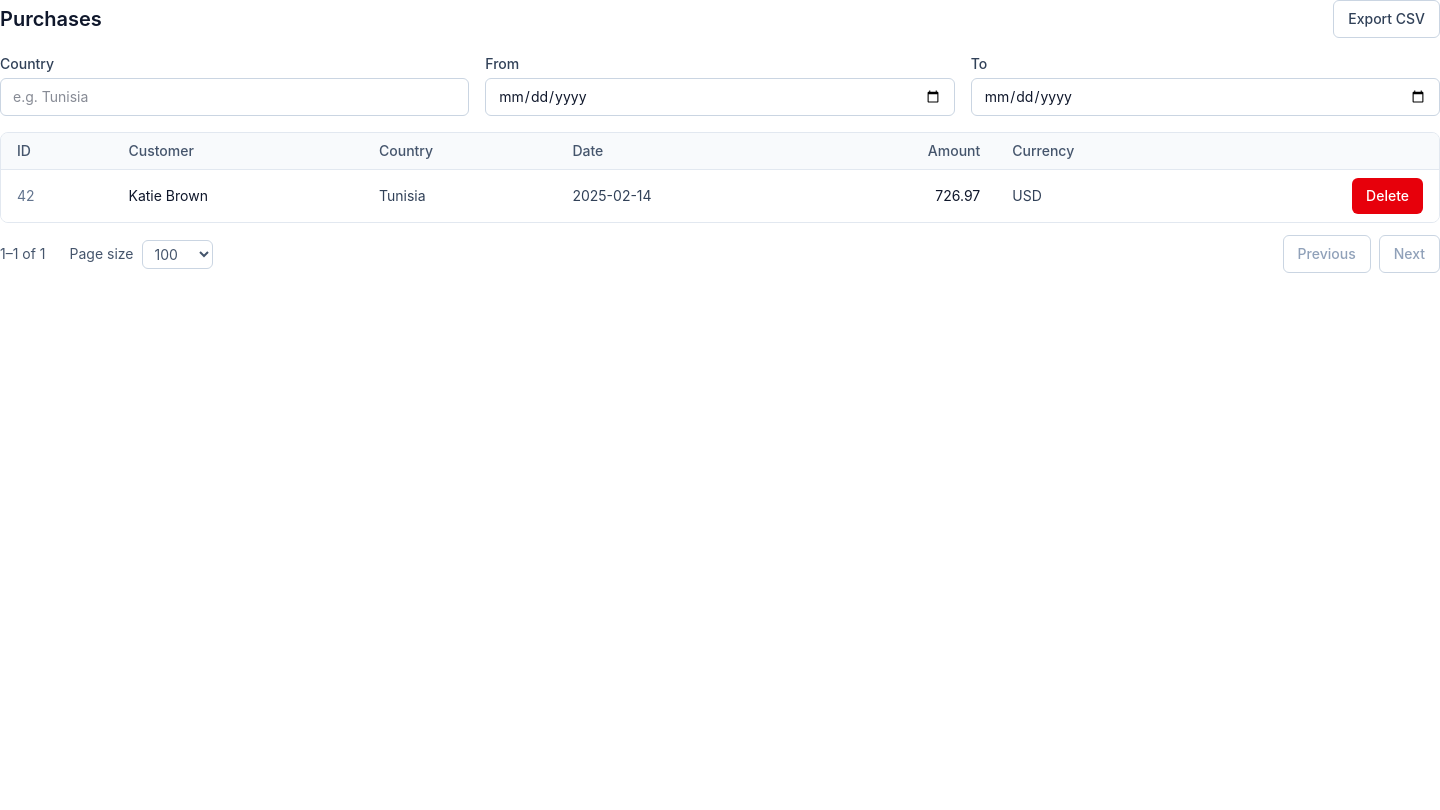
PurchasesPage delete action › surfaces a 403 from the backend gracefully if it somehow occurs
The image size is (1440, 810).
What coordinates should you click on to do the following:
click the button "Delete"
I would click on:
 (1388, 196)
Its box is [1352,178,1423,214].
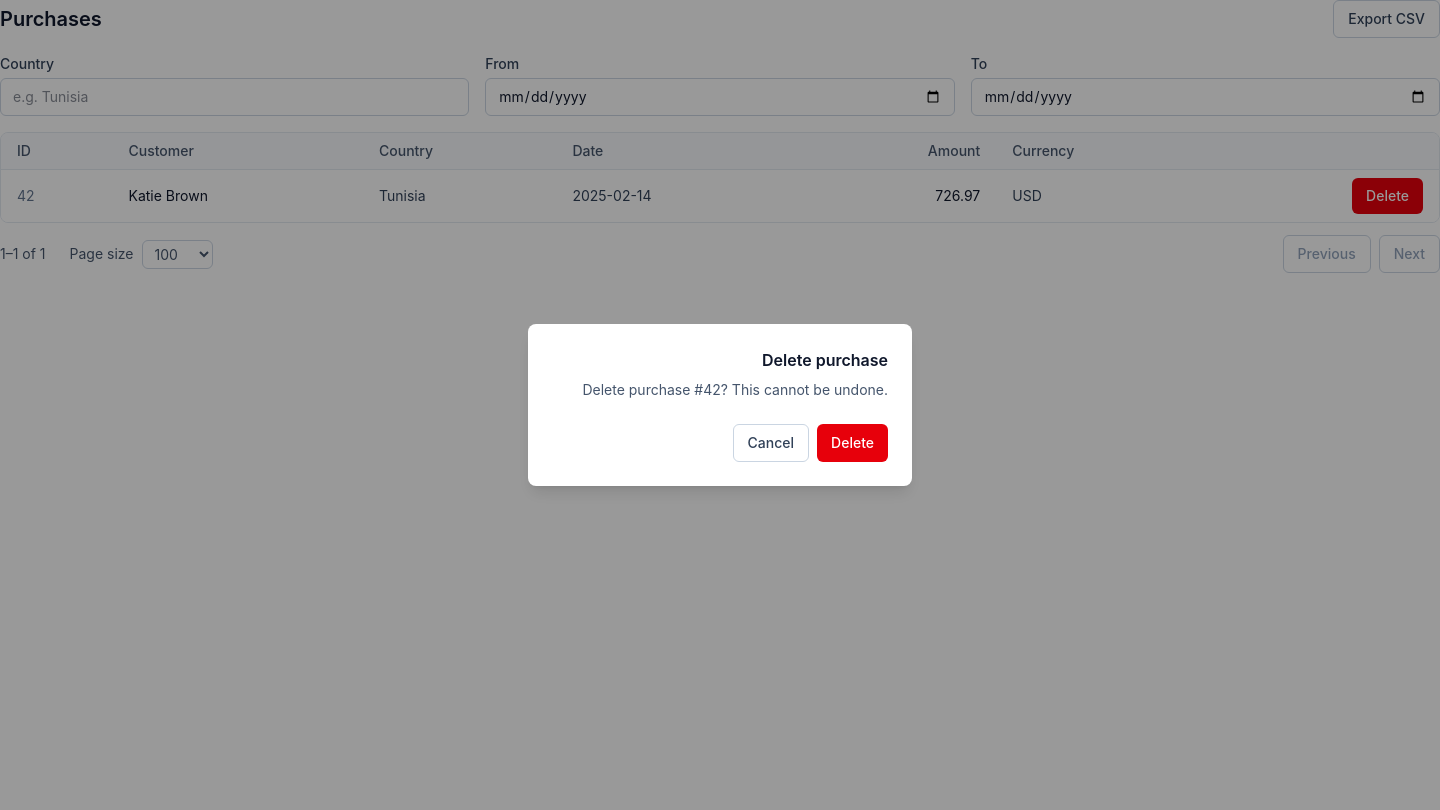
What coordinates should you click on to do the following:
click the 2nd button "Delete"
I would click on:
 (853, 443)
Its box is [817,424,888,462].
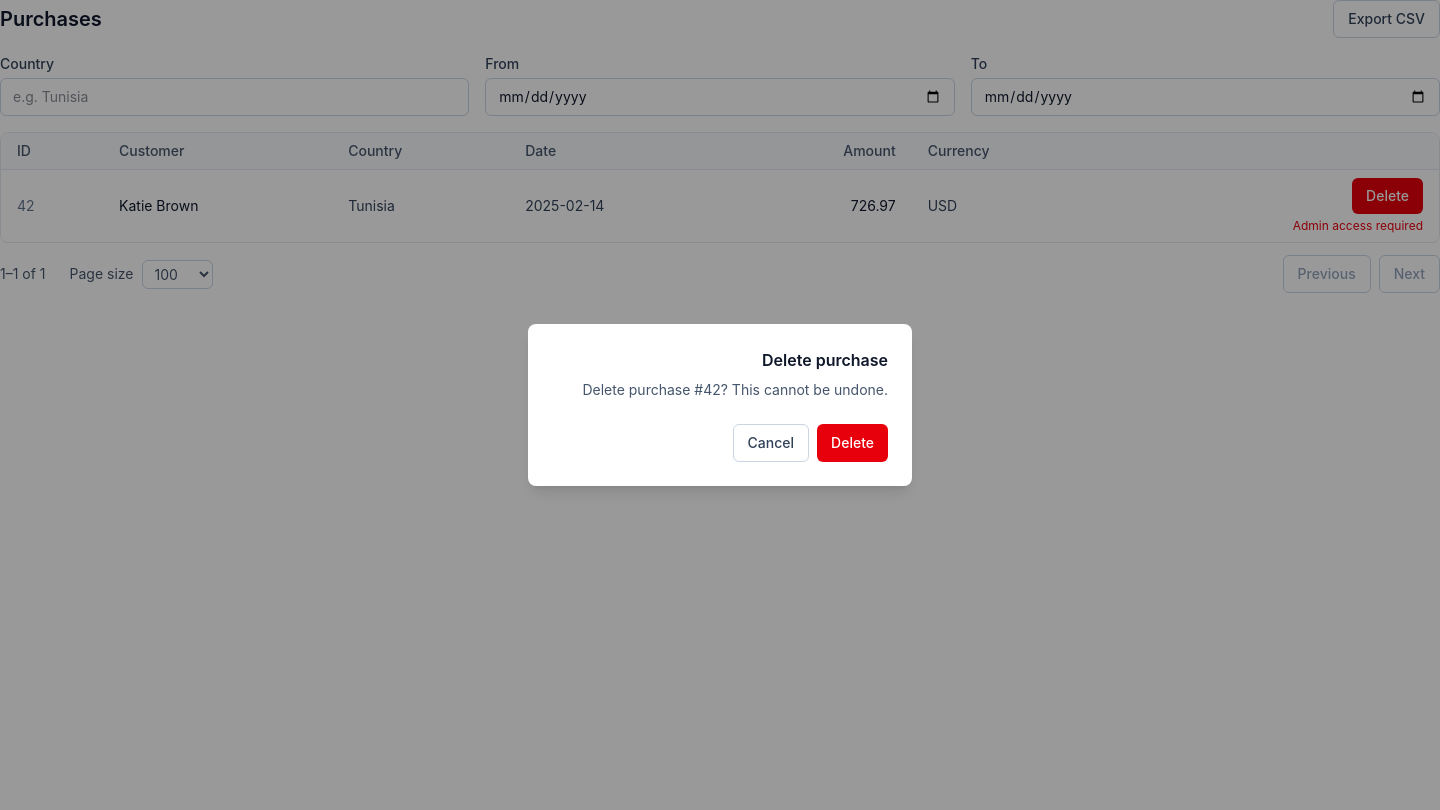
Expected: the dialog is shown, [528,324,912,486]
Expected: the text "Admin access required" is shown, [1293,218,1423,233]
